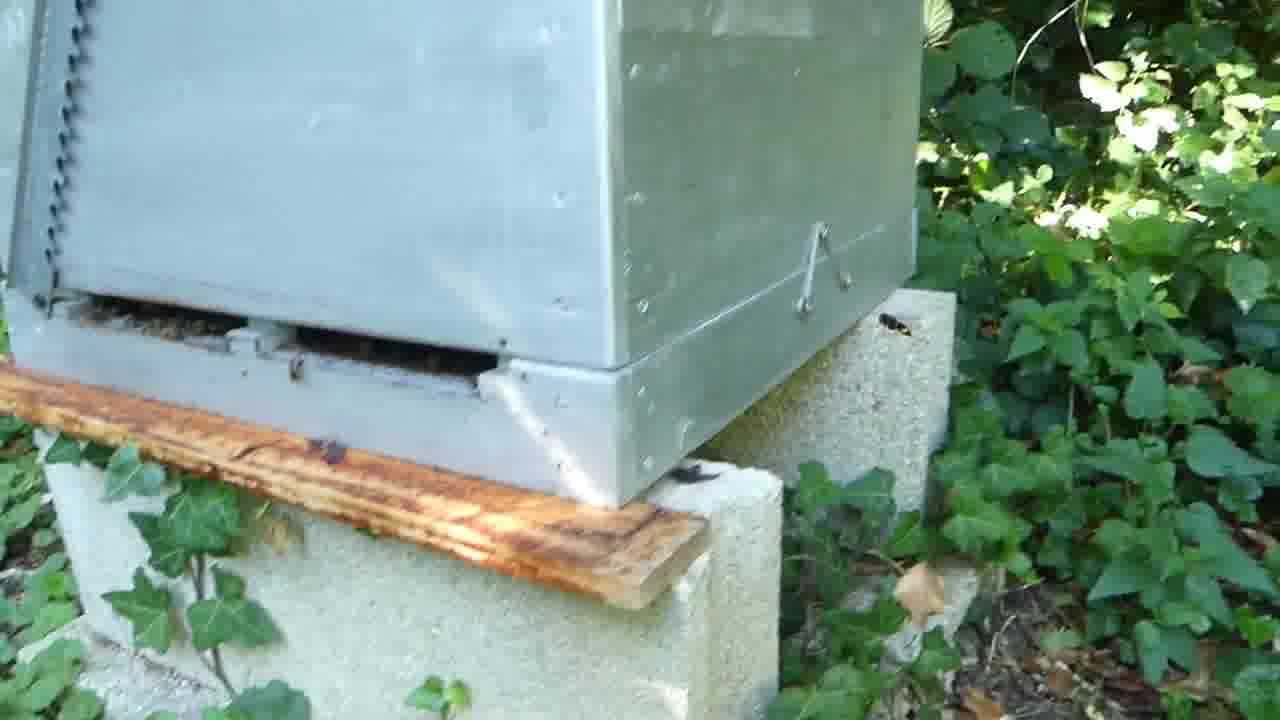hornet: (879, 312, 915, 340)
